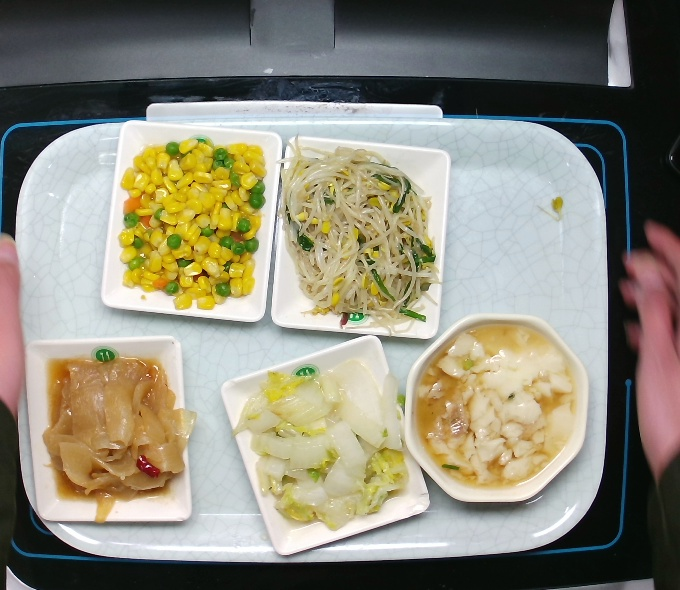wcq-DaBaiCai: (226, 356, 413, 534)
wcq-DongGua: (32, 347, 204, 527)
wcq-DouYa: (269, 128, 456, 342)
wcq-ShuiZhengDan: (407, 319, 584, 494)
wcq-TianMiTianDou: (113, 131, 269, 312)
